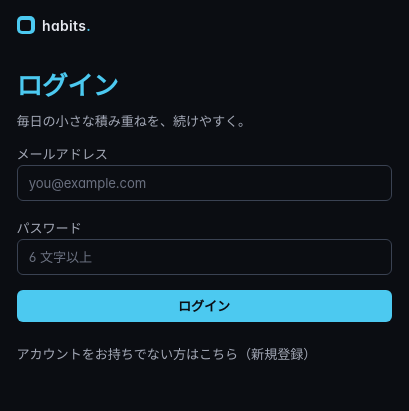
Test: Login › submit 失敗でエラー文が表示される
Type "a@b.co" into the field labelled "メールアドレス" at [204, 183], box top-left (16, 165), bottom-right (392, 201)
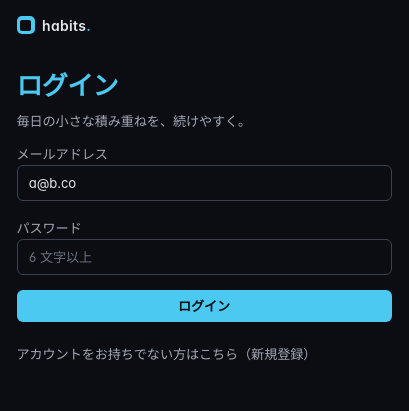
Type "wrongpass" into the password field labelled "パスワード" at [204, 257], box top-left (16, 239), bottom-right (392, 275)
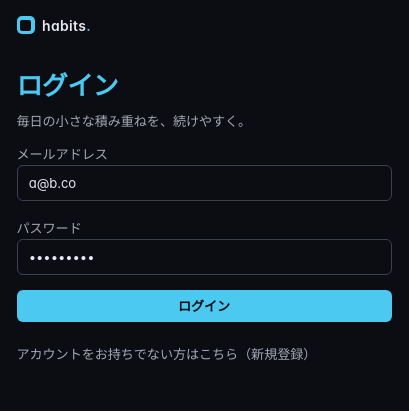
Click the button "ログイン" at [204, 306], box top-left (16, 290), bottom-right (392, 322)
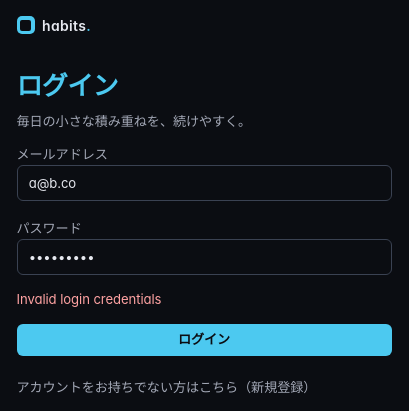
Expected: the message reads "Invalid login credentials", top-left (16, 291), bottom-right (161, 307)
